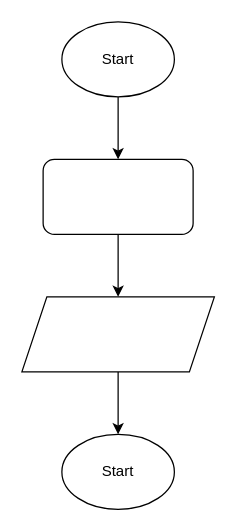
The diagram is 236 pixels wide and 531 high, and some of its shapes have lost their labels. Here are the shapes that lost their labels. From the top down, the box of each, then its label:
(42, 158, 193, 234): melakukan sort data asc dan desc
(21, 296, 214, 372): mengeluarkan data
